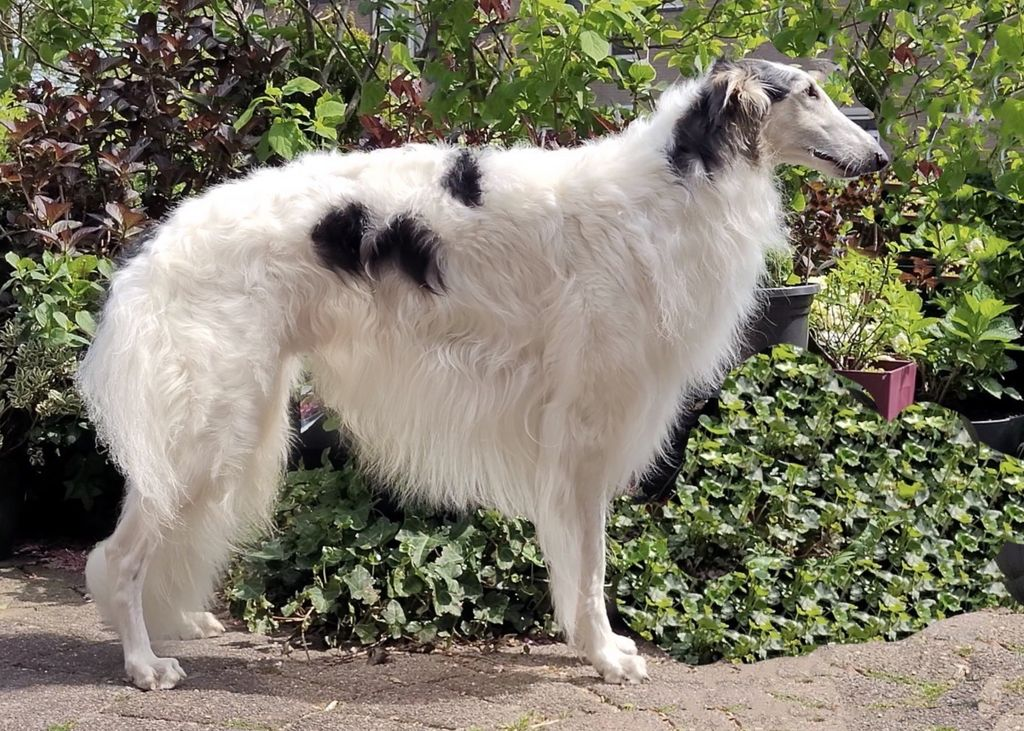borzoi: (64, 58, 923, 694)
